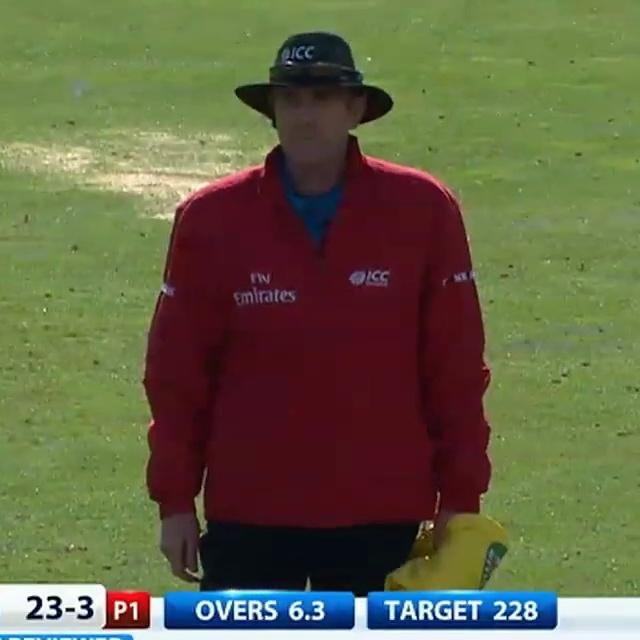umpire: (118, 8, 524, 596)
